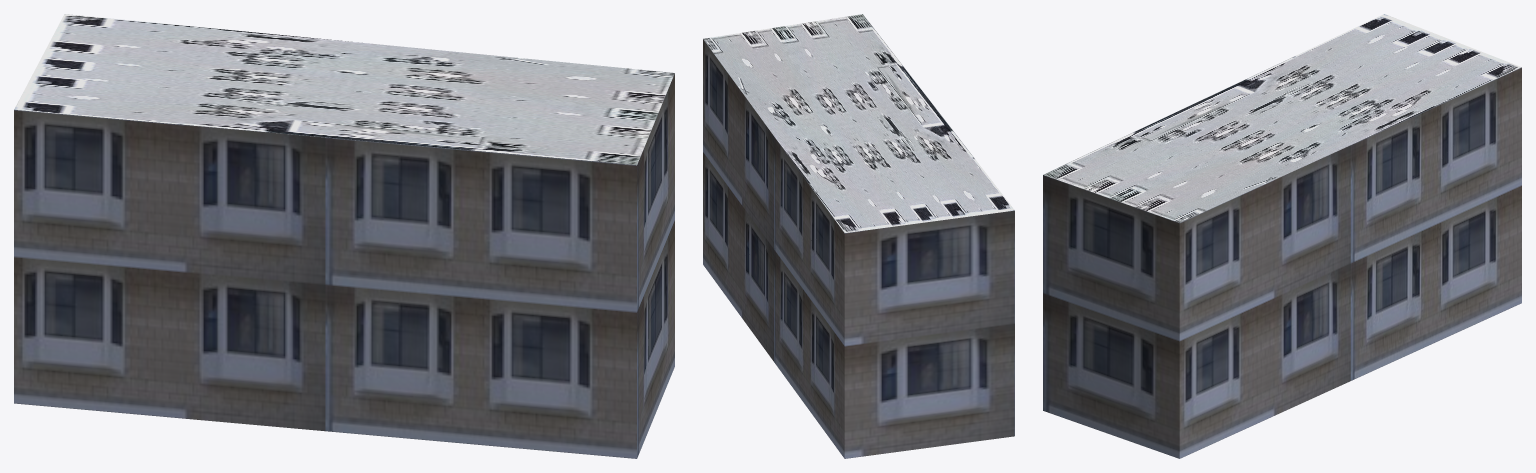
Rendered from ResTex__1768.fbx.
3 renders of one model, left to right at view 1: azimuth 30°, elevation 25°; view 2: azimuth 150°, elevation 25°; view 3: azimuth 270°, elevation 25°, orthographic. The views are drawn at different scales.
Parts seen in each view (by area): view 1: CityEngineMaterial_3_m, CityEngineMaterial_8_m; view 2: CityEngineMaterial_3_m, CityEngineMaterial_8_m; view 3: CityEngineMaterial_3_m, CityEngineMaterial_8_m.
Part boxes in pixels (x1,y1,x2,y2): CityEngineMaterial_3_m: [14, 73, 674, 458]; CityEngineMaterial_8_m: [14, 14, 674, 165]; CityEngineMaterial_3_m: [703, 39, 1014, 458]; CityEngineMaterial_8_m: [703, 14, 1014, 232]; CityEngineMaterial_3_m: [1043, 67, 1521, 458]; CityEngineMaterial_8_m: [1043, 14, 1521, 222].
Bounding box in the file's own units: 11.4 × 6 × 11.04.
Materials: 2 (2 with a texture image).
